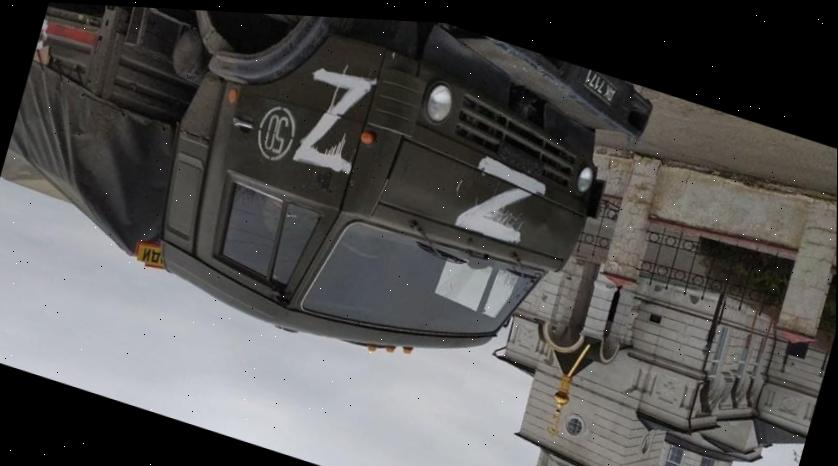truck: (0, 0, 664, 424)
